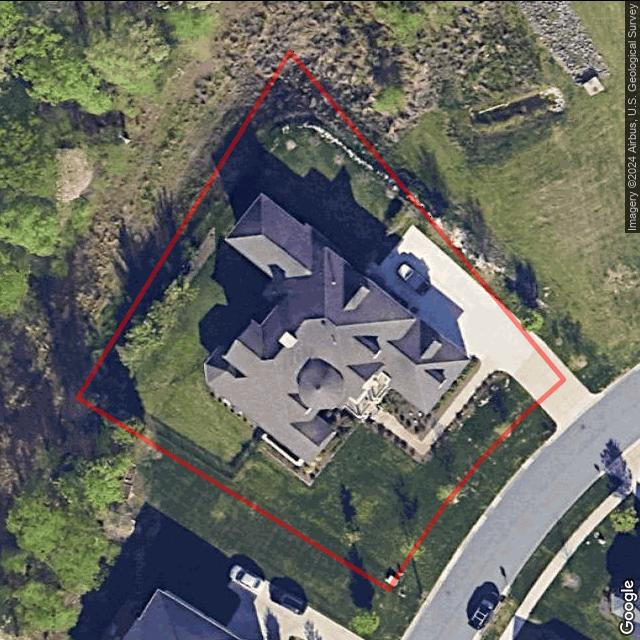Driveway: (367, 223, 563, 400)
Extra-Driveway: (503, 304, 595, 429)
Extra-Lawn: (388, 400, 559, 608)
House: (205, 187, 468, 469)
Lawn: (78, 52, 563, 590)
Other: (76, 52, 398, 415), (262, 401, 432, 487), (378, 353, 481, 440)
Sidewalk: (368, 363, 491, 456)
